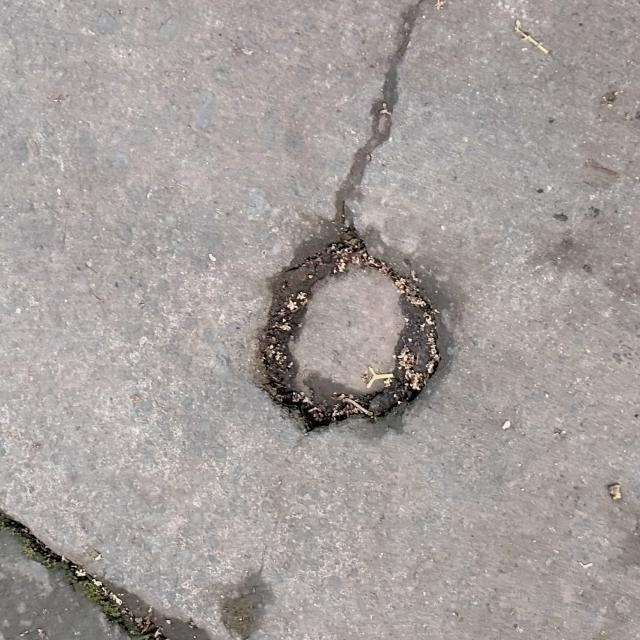pothole: (240, 199, 480, 458)
